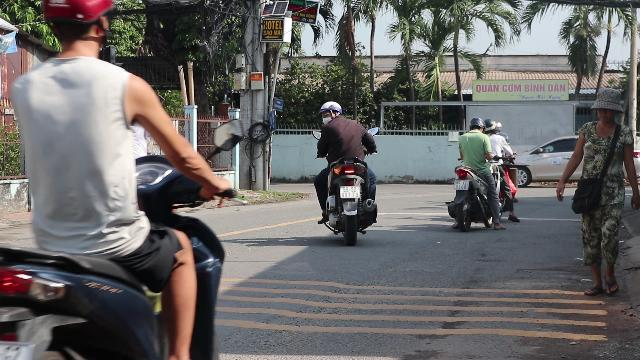helmet: (318, 100, 342, 126), (467, 116, 483, 132)
licenseplate: (341, 186, 359, 198), (454, 179, 468, 189)
motorcyclist: (310, 100, 382, 242), (447, 115, 515, 229)
